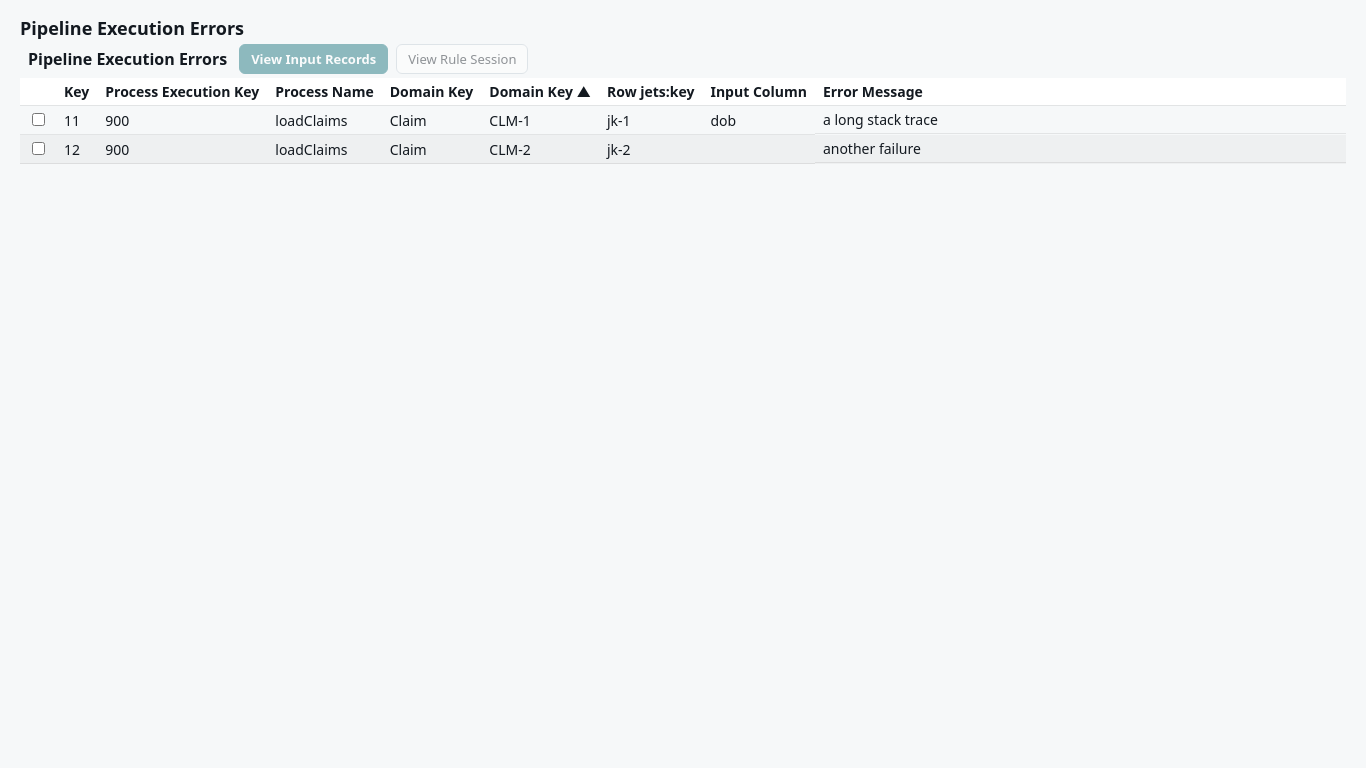
Test: the input-records dialog › closes on Close and leaves the screen where it was
Expected: the text "CLM-1" is shown, [481, 106, 599, 134]
Click the checkbox named "Select row 1" at (38, 120), box [32, 113, 45, 126]
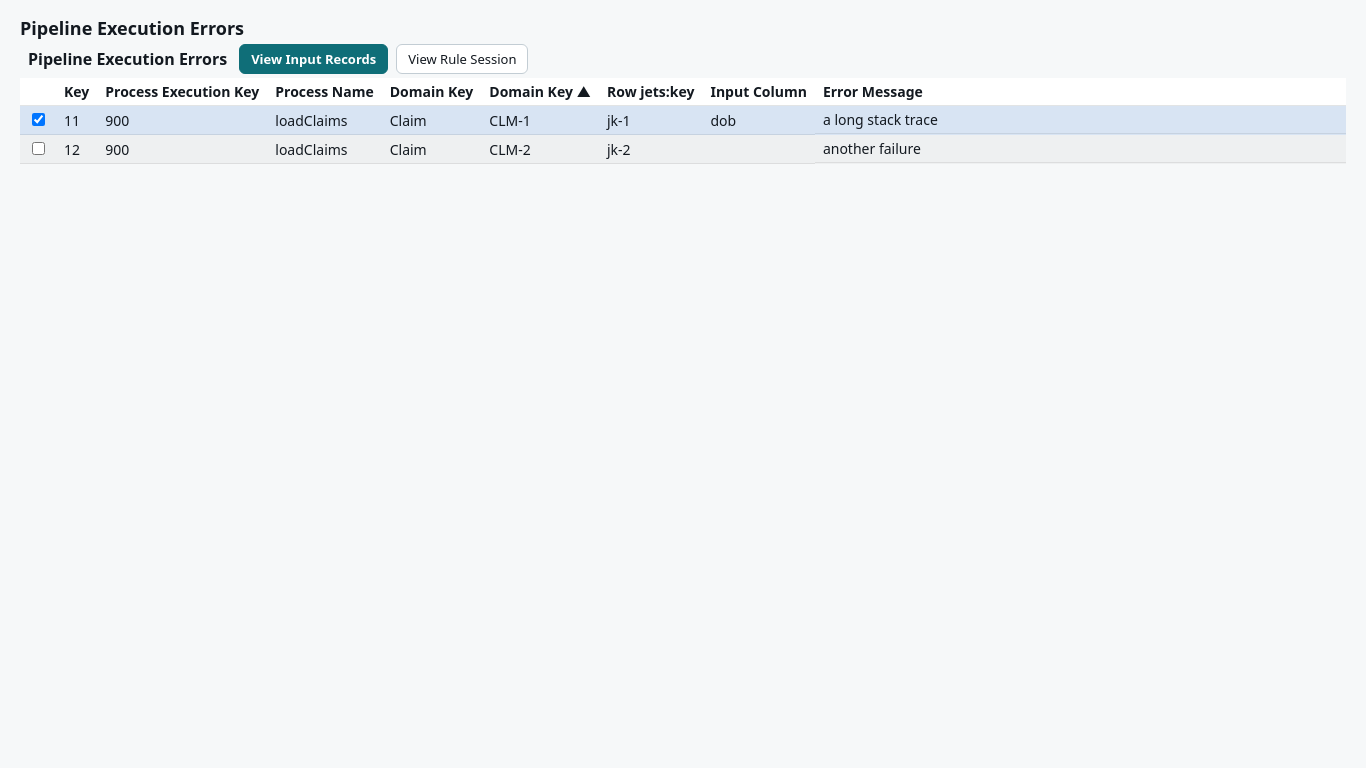
Now the checkbox named "Select row 1" is checked, box [32, 113, 45, 126]
Now the button "View Input Records" is enabled
Click the button "View Input Records" at (314, 59), box [239, 44, 388, 74]
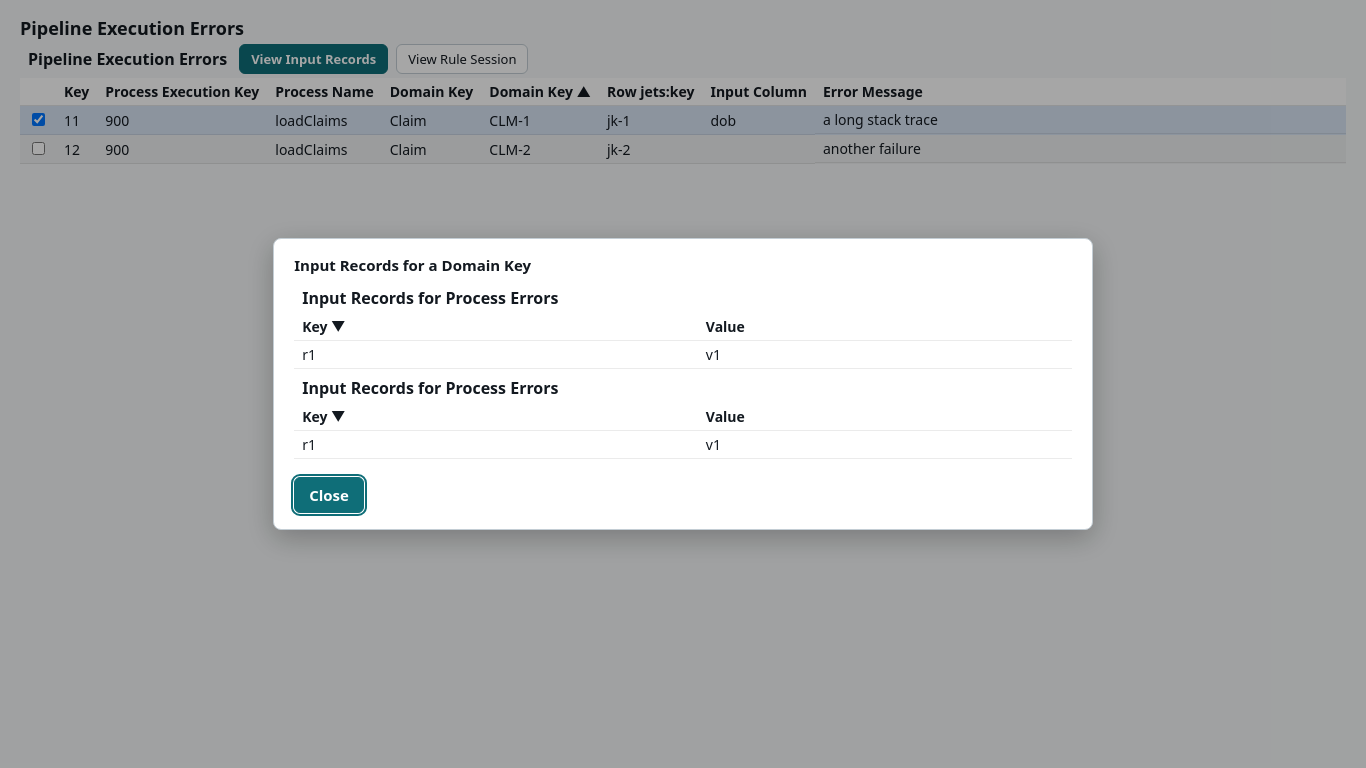
Click the button "Close" at (329, 495), box [294, 477, 364, 513]
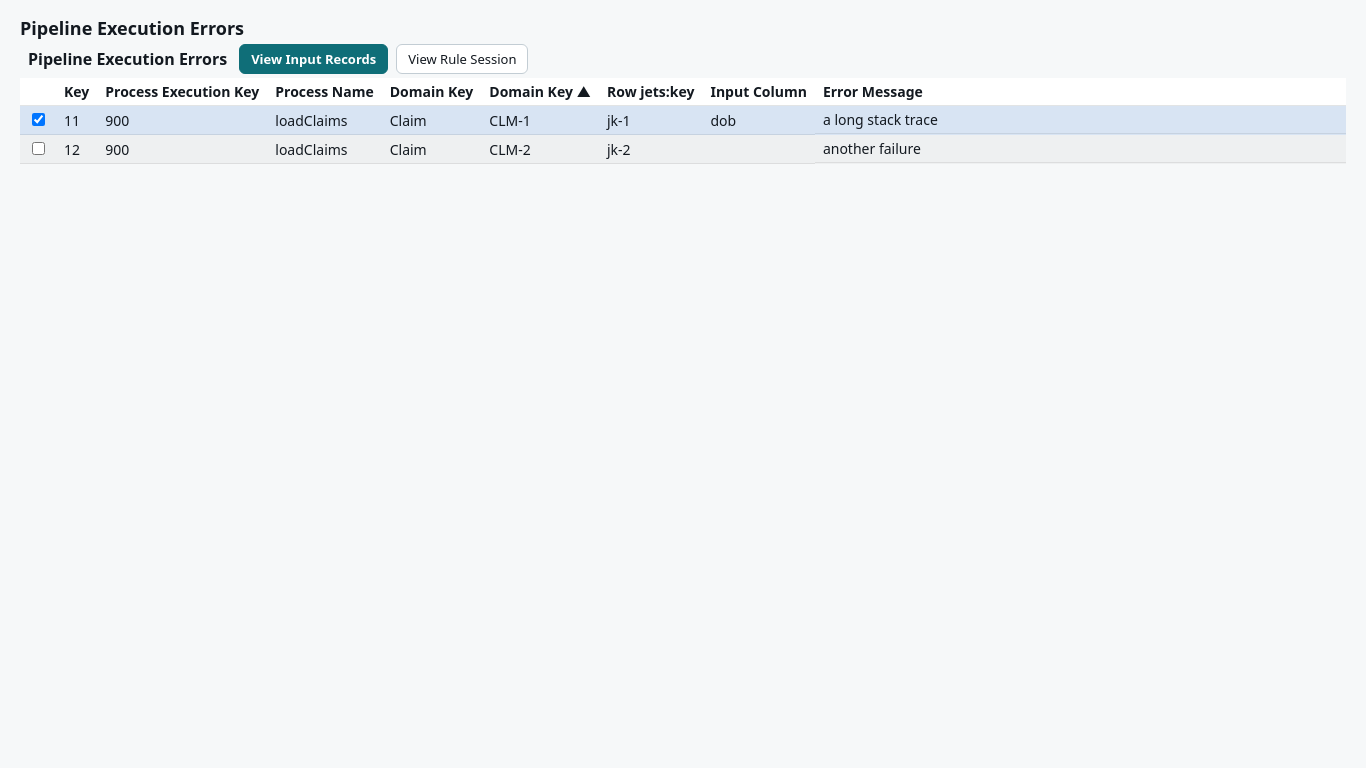
Expected: the text "CLM-1" is shown, [481, 106, 599, 134]
Now the dialog is gone
